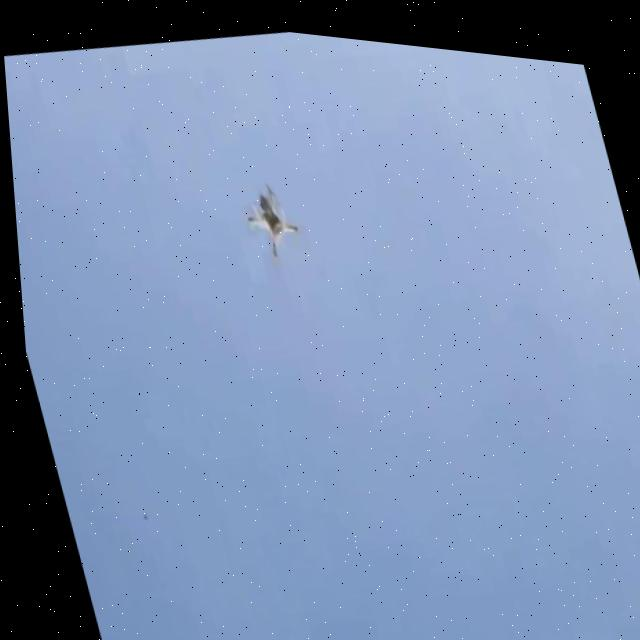drones: (195, 128, 337, 298)
